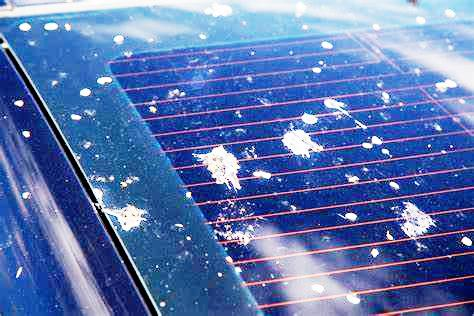Bird Poop: (93, 188, 145, 230), (197, 145, 240, 187), (400, 202, 434, 238), (283, 130, 322, 157), (215, 224, 254, 245), (363, 136, 390, 155), (324, 99, 352, 117), (204, 2, 230, 16), (436, 79, 456, 90), (120, 176, 138, 187), (295, 2, 306, 15), (301, 113, 316, 122), (346, 293, 359, 302), (255, 171, 271, 178), (97, 77, 111, 84), (341, 213, 355, 220), (355, 119, 366, 127), (45, 23, 57, 30), (311, 284, 323, 291), (461, 237, 470, 245), (114, 35, 123, 43), (20, 23, 30, 30), (390, 181, 398, 189), (348, 176, 358, 182), (16, 268, 22, 278), (446, 9, 454, 16), (80, 89, 89, 95), (322, 42, 332, 47), (371, 250, 378, 257), (387, 231, 393, 239), (416, 17, 424, 23), (72, 114, 81, 119), (22, 131, 29, 137), (22, 192, 29, 198), (149, 106, 156, 112), (185, 191, 191, 198), (226, 256, 232, 262), (16, 100, 23, 105), (383, 92, 388, 99), (373, 24, 380, 29), (314, 67, 320, 72), (235, 267, 241, 272), (199, 34, 205, 39), (65, 24, 70, 30), (175, 224, 181, 227)
